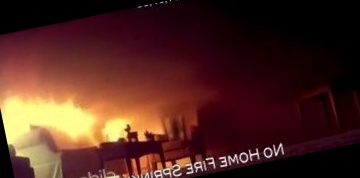fire: (0, 63, 139, 166)
